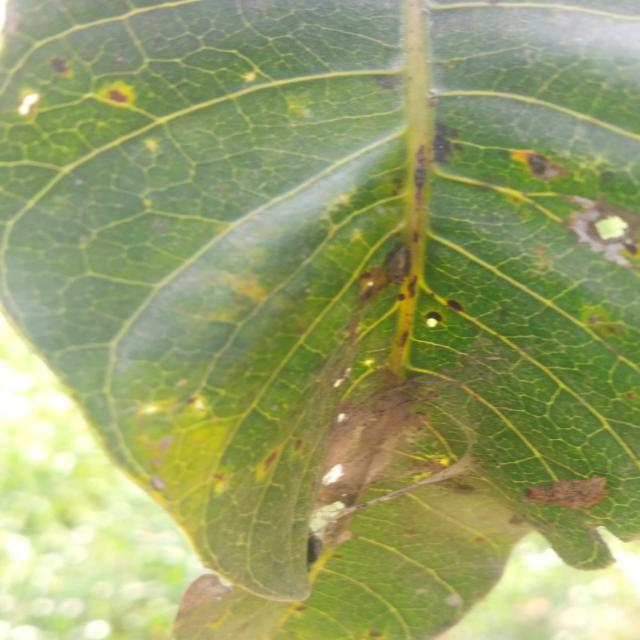Anthracnose: (48, 50, 162, 113), (364, 232, 441, 307), (519, 136, 568, 184)
Bacterial Cancer: (313, 371, 446, 485), (551, 195, 630, 258)
